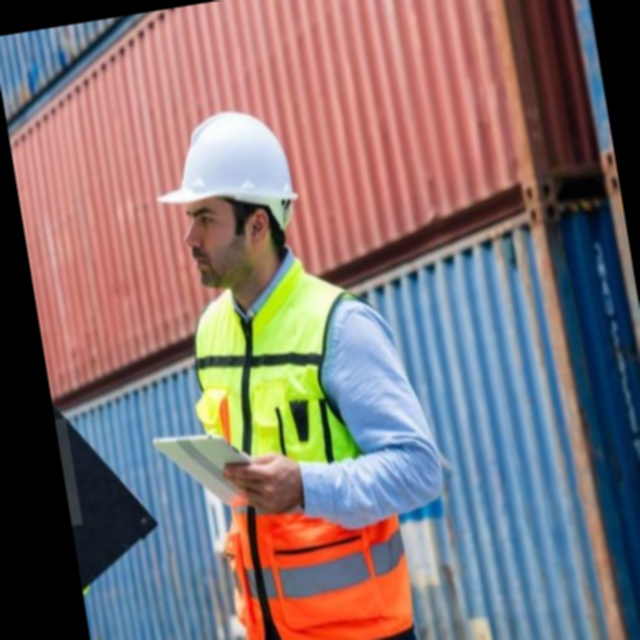Con_Casco: (144, 103, 308, 293)
Con_Chaleco: (183, 265, 418, 640)
